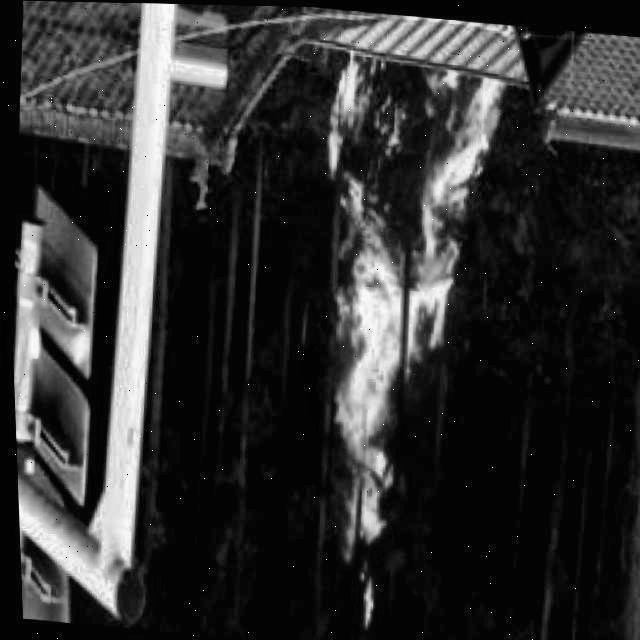Fire: (296, 52, 515, 553)
